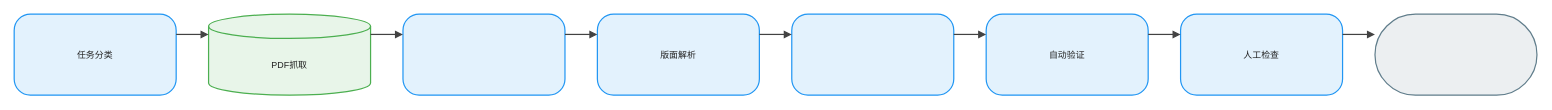
Some shapes in this 1552 by 110 pixel diagram are drawn without their labels. The centre of each missing label's shape, as x and y in pixels:
"2325问答" goes at (x=1455, y=54).
"QA生成" goes at (x=872, y=54).
"文档过滤" goes at (x=483, y=54).
